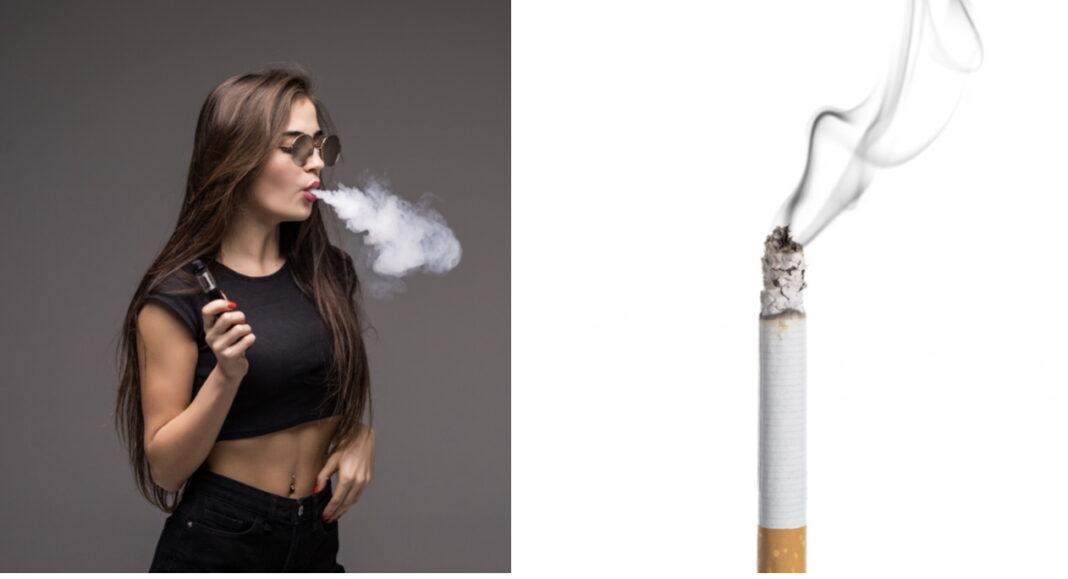controlled_fire: (694, 57, 942, 390), (269, 105, 470, 285)
